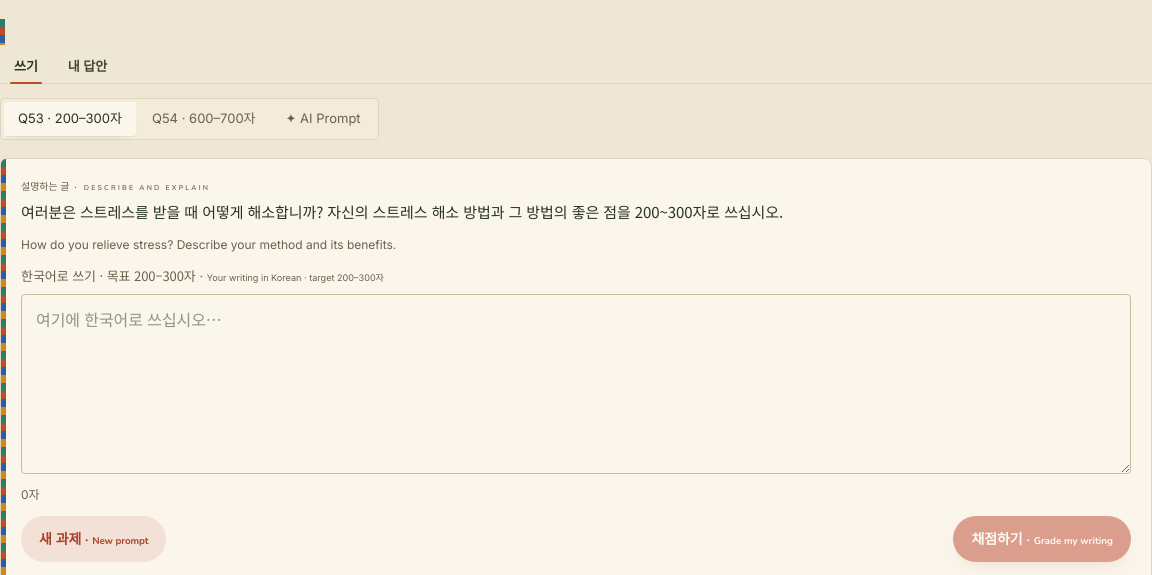
Writing › submits the served prompt + promptId + trimmed sample + rubric and renders the grade
Expected: the text "스트레스 해소 방법" is shown, x1=21 y1=200 x2=783 y2=222
Step 1. Type "저는 스트레스를 받을 때 산책을 합니다. 산책을 하면 기분이 좋아지기 때문에 자주 걷습니다." into the text box labelled "Your writing in Korean" → (576, 384), box x1=21 y1=294 x2=1131 y2=474
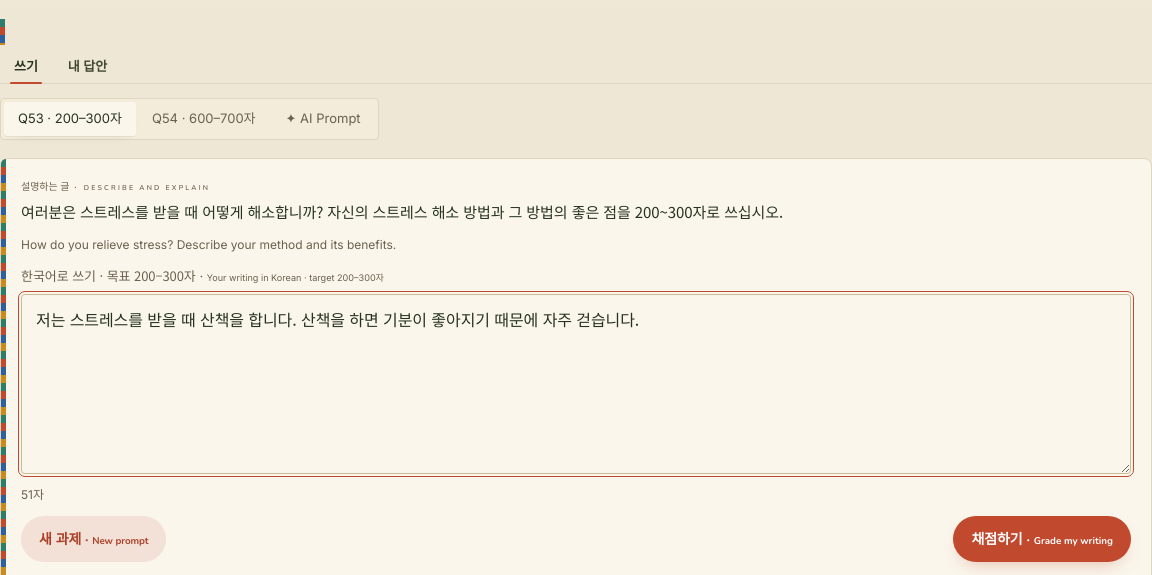
Step 2. Click the button "채점하기 · Grade my writing" → click(1042, 539), box x1=953 y1=516 x2=1131 y2=562
(page scrolled)
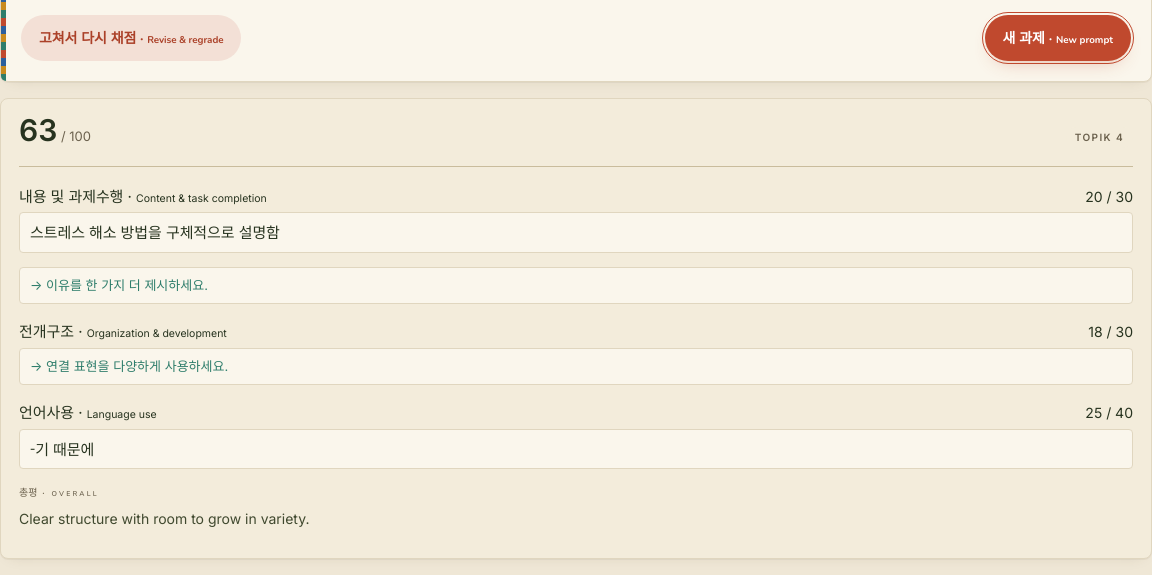
Expected: the text "63" is shown, x1=19 y1=112 x2=57 y2=148
Expected: the text "/ 100" is shown, x1=57 y1=128 x2=91 y2=144
Expected: the text "TOPIK 4" is shown, x1=1066 y1=127 x2=1133 y2=148
